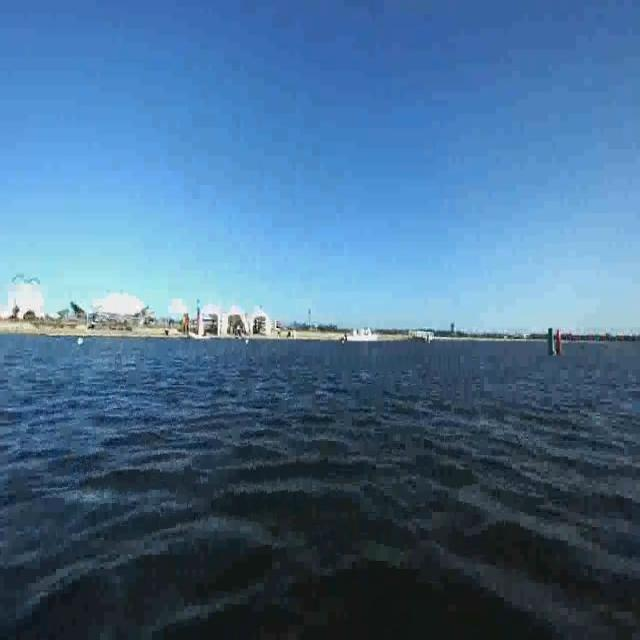green-column-buoy: (546, 328, 557, 359)
